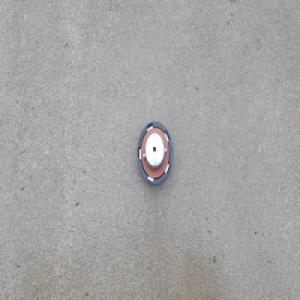FuelCap: (135, 118, 173, 187)
